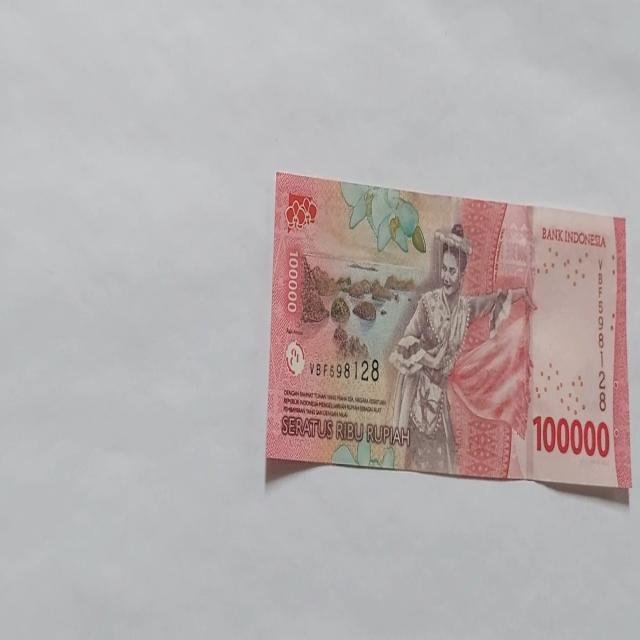seratus ribu rupiah: (264, 173, 632, 505), (383, 220, 533, 478)
